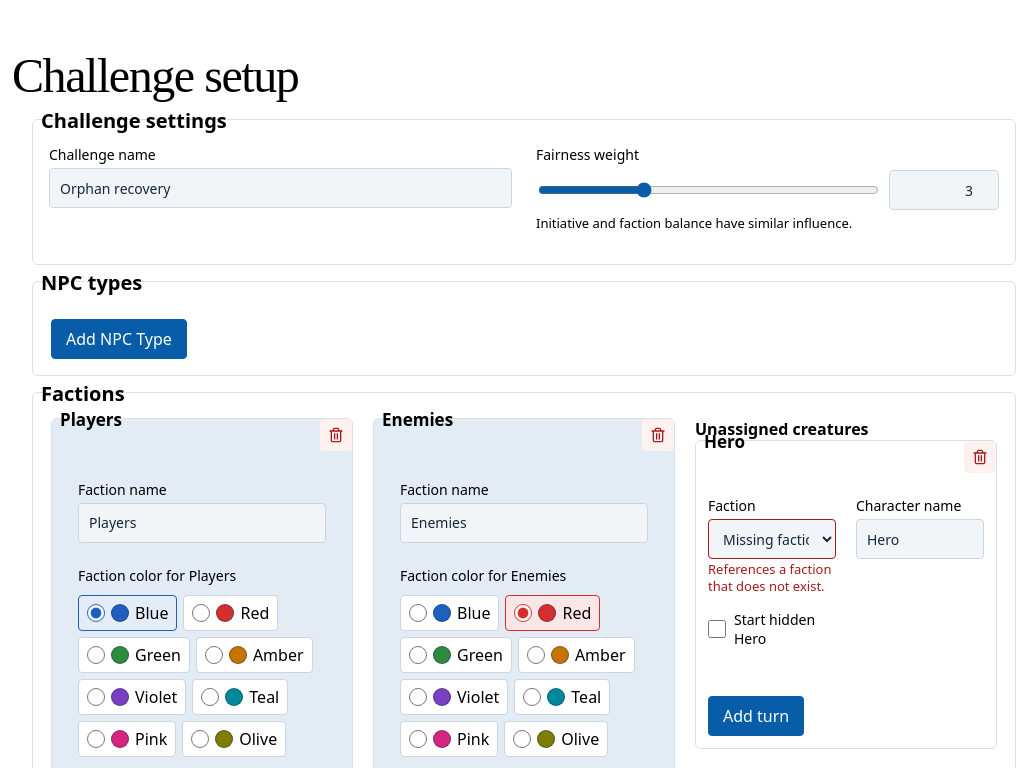
Test case: new challenge setup › keeps creatures with missing factions visible and saves explicit reassignment
Expected: the heading "Challenge setup" is shown, [12,49,298,102]
Expected: the element named "Hero" is shown, [708,496,984,736]
Select "Players" in the dropdown named "Faction for Hero" at (772,539), box [708,519,836,559]
(page scrolled)
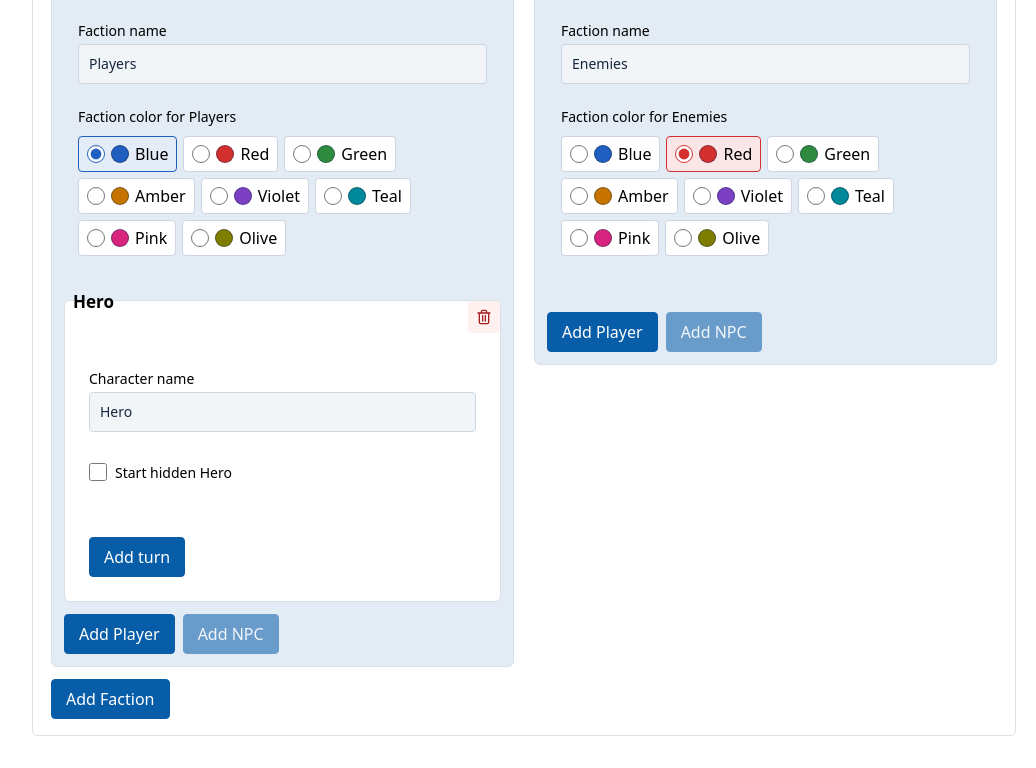
Expected: the element "Hero" is shown, [77,357,488,589]
Now the heading "Unassigned creatures" is gone
